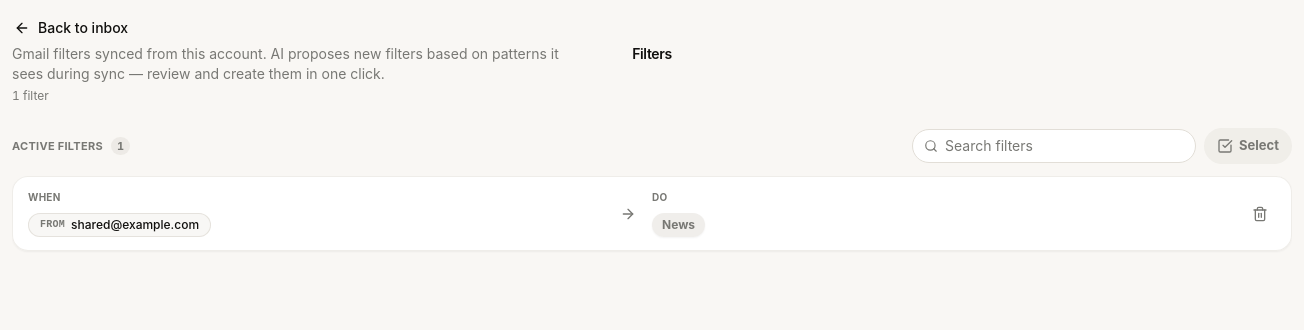
Test: account scoping › switching accounts drops the selection rather than carrying it over
Click the button with aria-label "Enter select mode" at (1248, 146), box [1204, 128, 1292, 164]
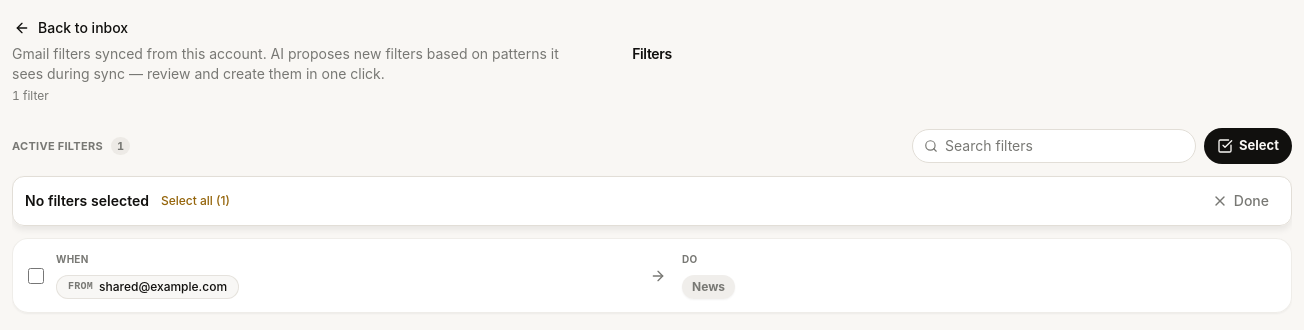
Click the checkbox named "Select filter" at (36, 276), box [28, 268, 44, 284]
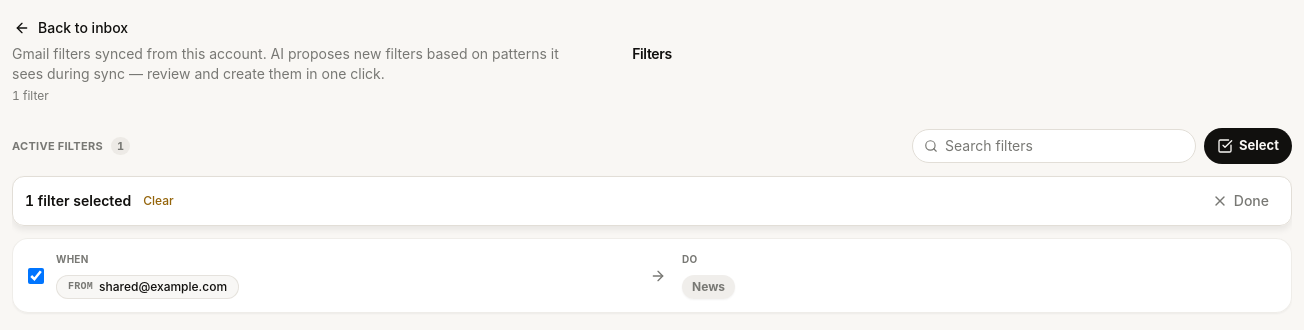
Expected: the text "1 filter selected" is shown, [25, 191, 131, 211]
